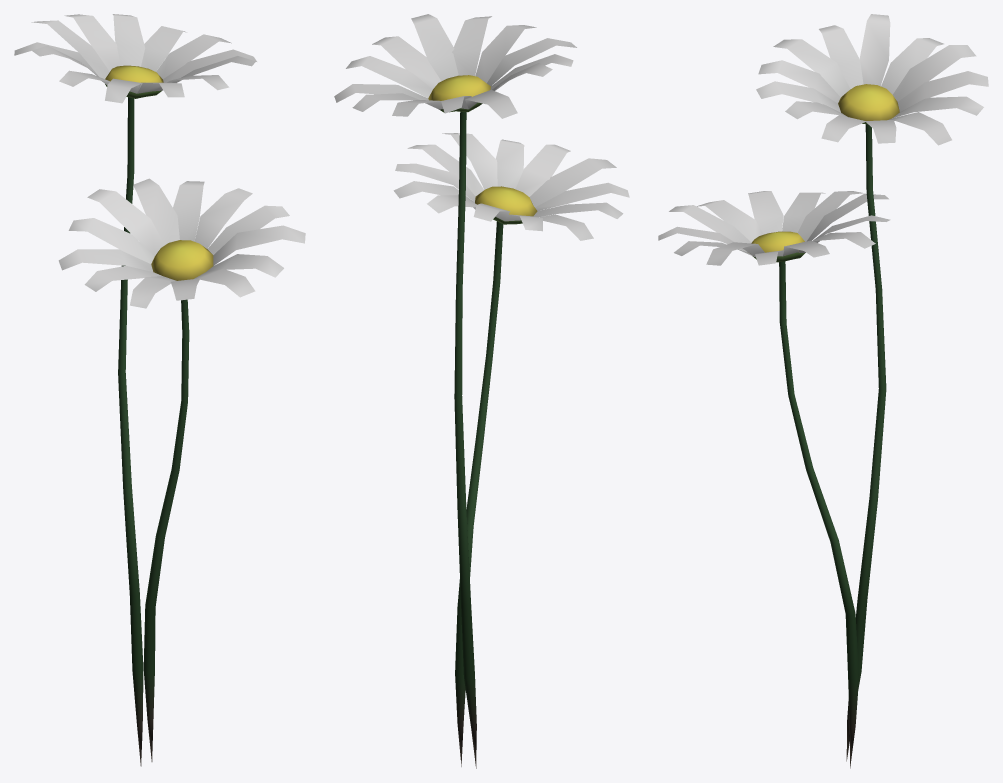
The model's file is plants-flowers-daisy_v7.fbx.
3 views of the same model, side by side, from view 1: azimuth 30°, elevation 25°; view 2: azimuth 150°, elevation 25°; view 3: azimuth 270°, elevation 25° (orthographic). The views are drawn at different scales.
Visible parts, largest first — view 1: Daisy_v7; view 2: Daisy_v7; view 3: Daisy_v7.
Part boxes in pixels (bbox=[...]): Daisy_v7: bbox=[14, 14, 305, 766]; Daisy_v7: bbox=[334, 14, 629, 768]; Daisy_v7: bbox=[658, 14, 988, 768].
Size of the model in its own units: 0.1488 by 0.5 by 0.2116.
